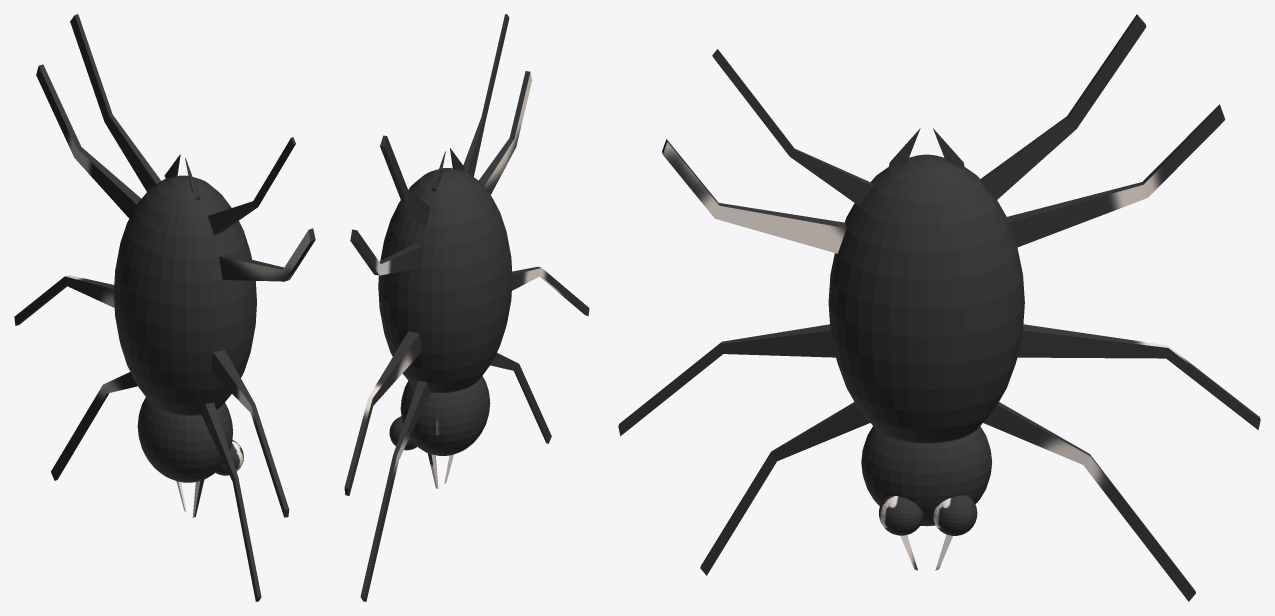
The model's file is Spider.fbx.
The picture shows the model from 3 angles, left to right: view 1: azimuth 30°, elevation 25°; view 2: azimuth 150°, elevation 25°; view 3: azimuth 270°, elevation 25°; orthographic projection. The views are drawn at different scales.
Visible parts, largest first — view 1: Sphere; view 2: Sphere; view 3: Sphere.
Part boxes in pixels (x1=…): Sphere: x1=14, y1=14, x2=315, y2=601; Sphere: x1=344, y1=14, x2=589, y2=601; Sphere: x1=618, y1=14, x2=1260, y2=601.
Size of the model in its own units: 254 by 987 by 981.
Materials: 3 (3 with a texture image).
